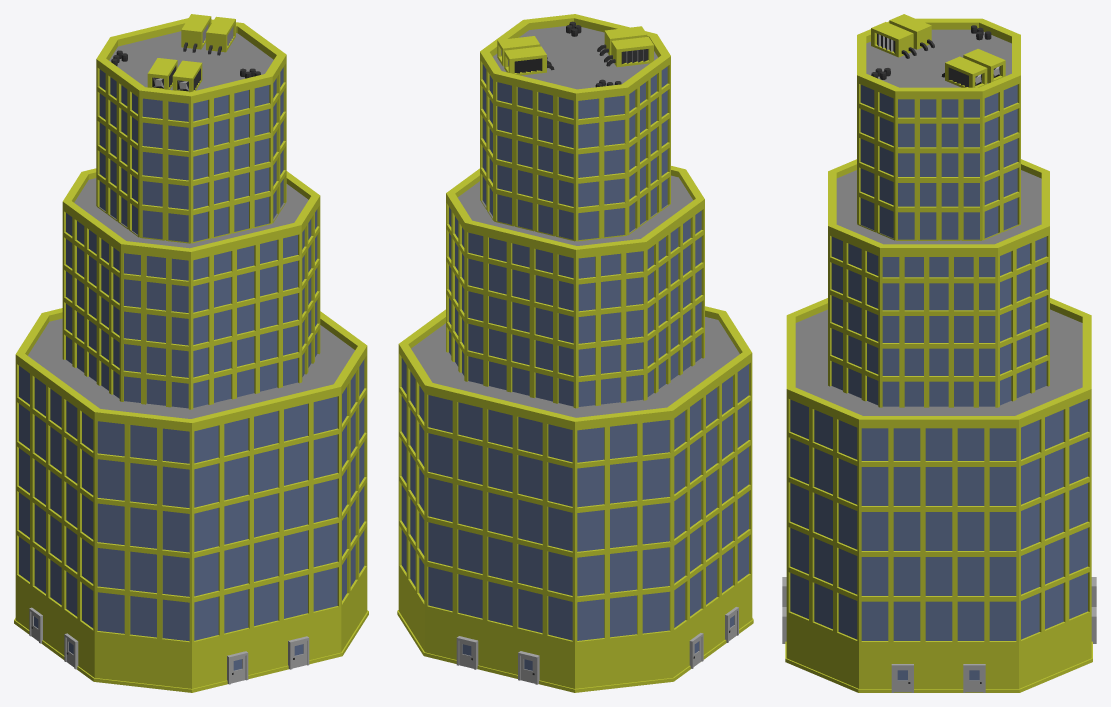
File: OctagonThreeLevel.fbx
The picture shows the model from 3 angles, left to right: view 1: azimuth 30°, elevation 25°; view 2: azimuth 150°, elevation 25°; view 3: azimuth 270°, elevation 25°; orthographic projection.
Visible parts, largest first — view 1: Building13_1.001; view 2: Building13_1.001; view 3: Building13_1.001.
Boxes of the visible parts, bbox=[...] form: Building13_1.001: bbox=[14, 14, 368, 692]; Building13_1.001: bbox=[397, 14, 753, 692]; Building13_1.001: bbox=[782, 14, 1096, 692].
Bounding box in the file's own units: 1366 × 2685 × 1317.
